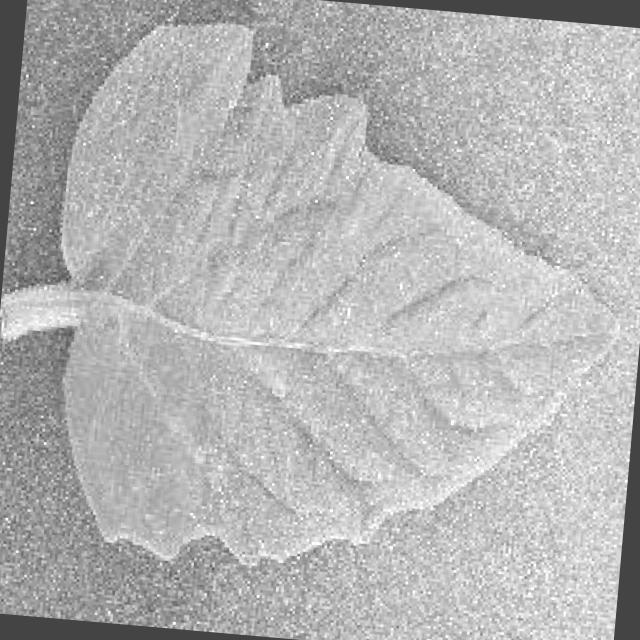healthy: (0, 24, 625, 568)
